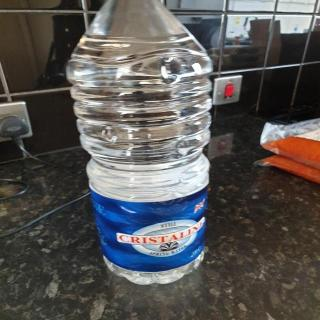Plastic-bottle: (61, 1, 225, 290)
